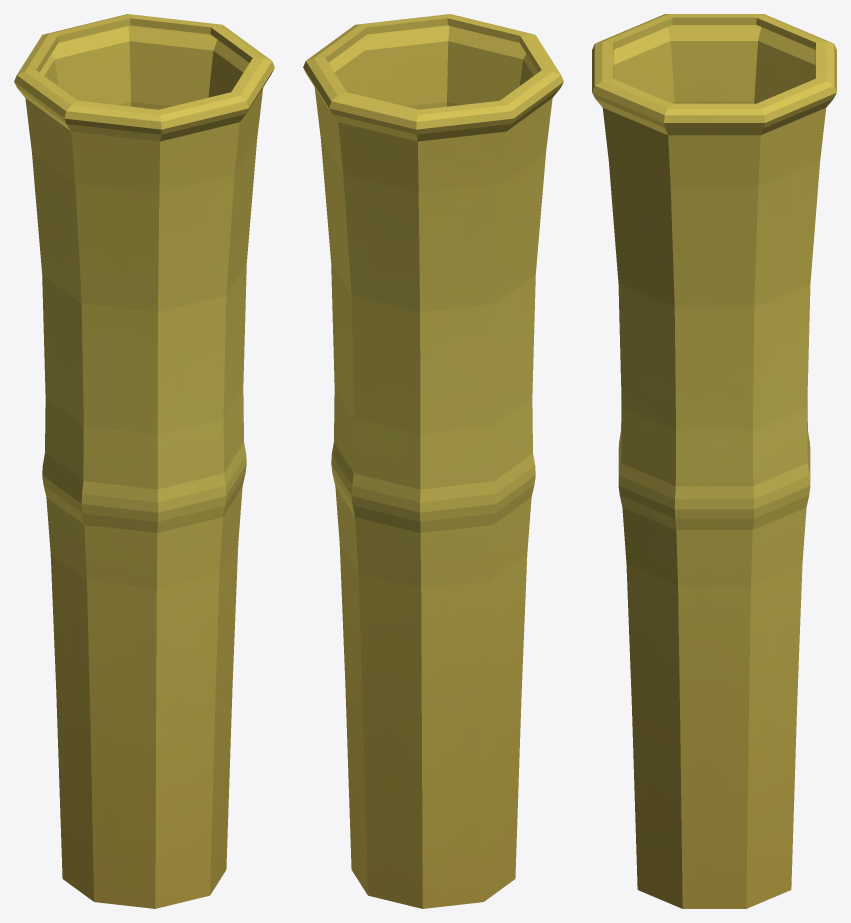
The model's file is Arrow_Bag.fbx.
The picture shows the model from 3 angles, left to right: view 1: azimuth 30°, elevation 25°; view 2: azimuth 150°, elevation 25°; view 3: azimuth 270°, elevation 25°; orthographic projection.
Visible parts, largest first — view 1: Arrow Bag; view 2: Arrow Bag; view 3: Arrow Bag.
Boxes of the visible parts, x1,y1,x2,y2 form: Arrow Bag: (14,14,274,908); Arrow Bag: (303,14,563,908); Arrow Bag: (592,14,836,908).
Bounding box in the file's own units: 12.82 × 47.17 × 12.82.
